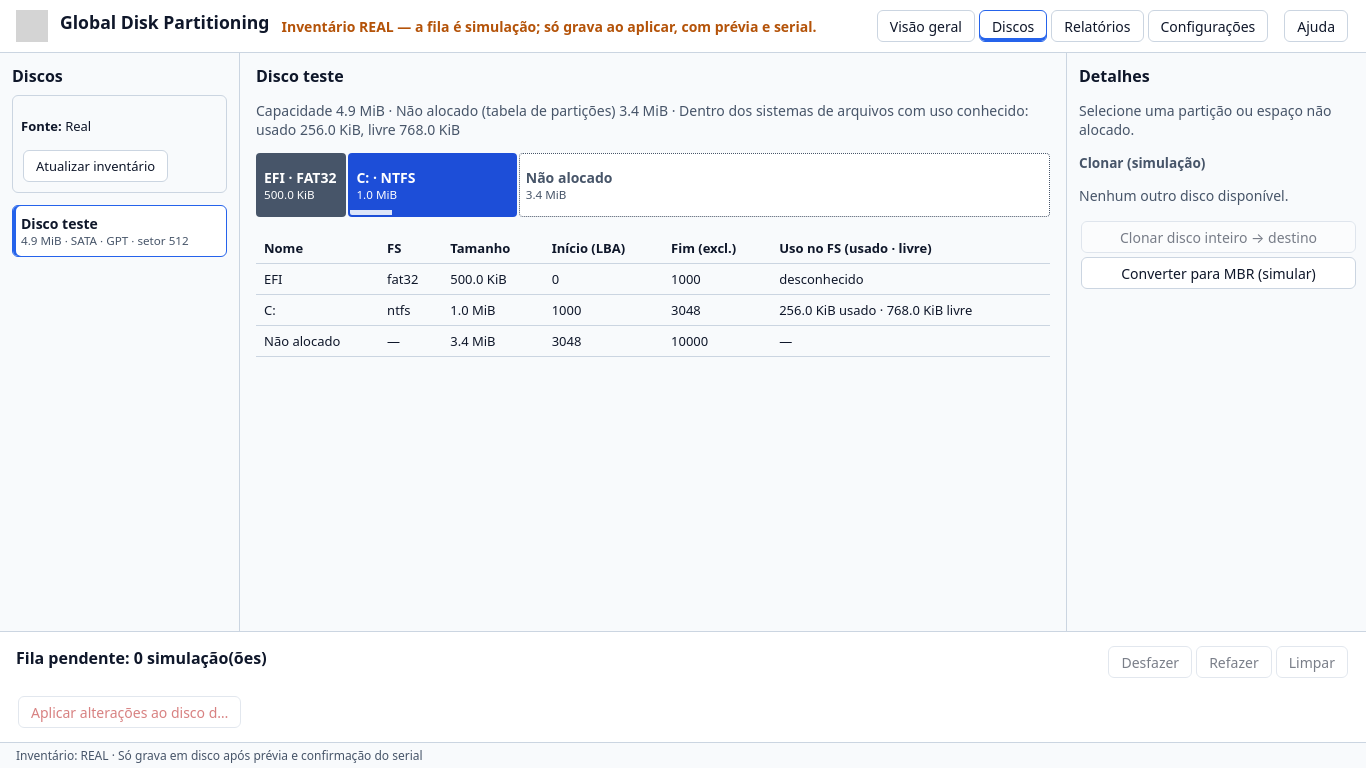
Test case: Ajuda → Sobre exibe autoria e licença
Click the button "Ajuda" at (1316, 26), box [1284,10,1348,42]
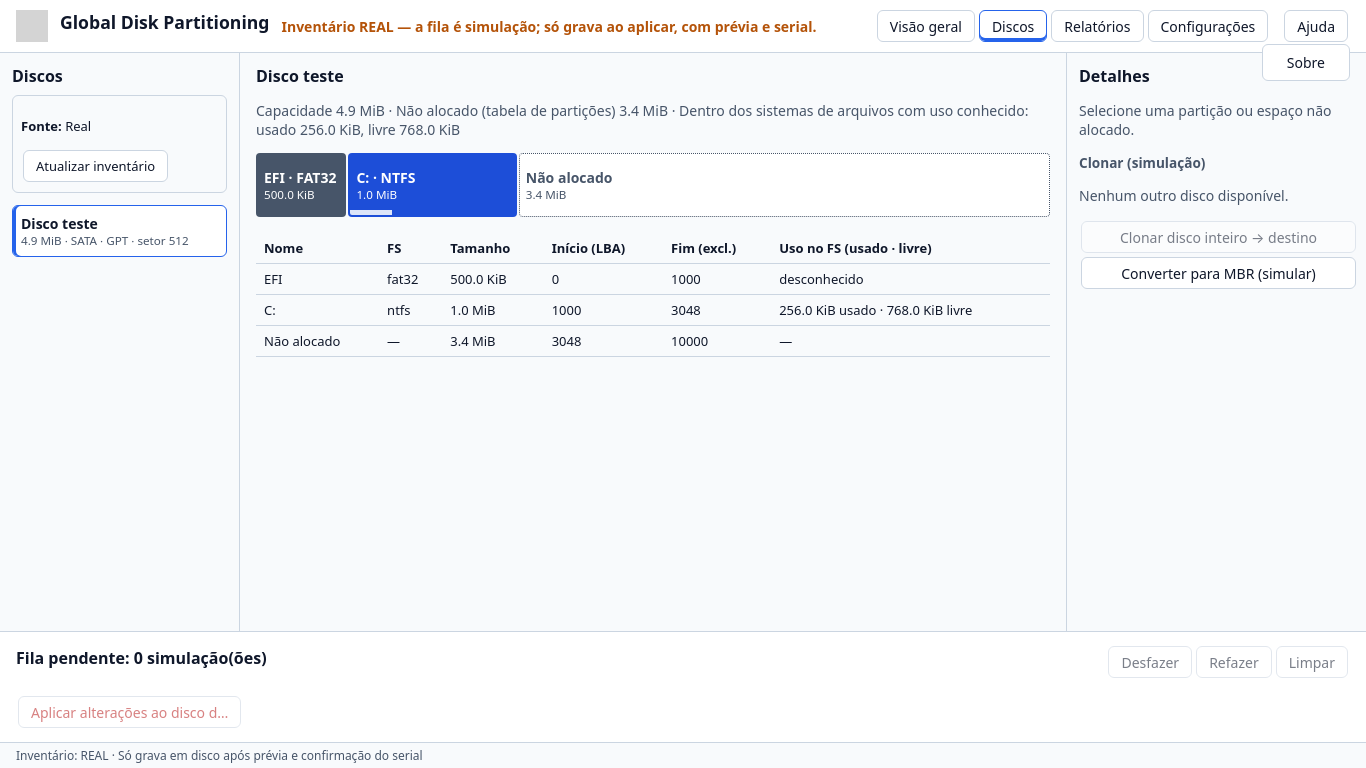
Click the menu item "Sobre" at (1306, 62), box [1263,45,1349,80]
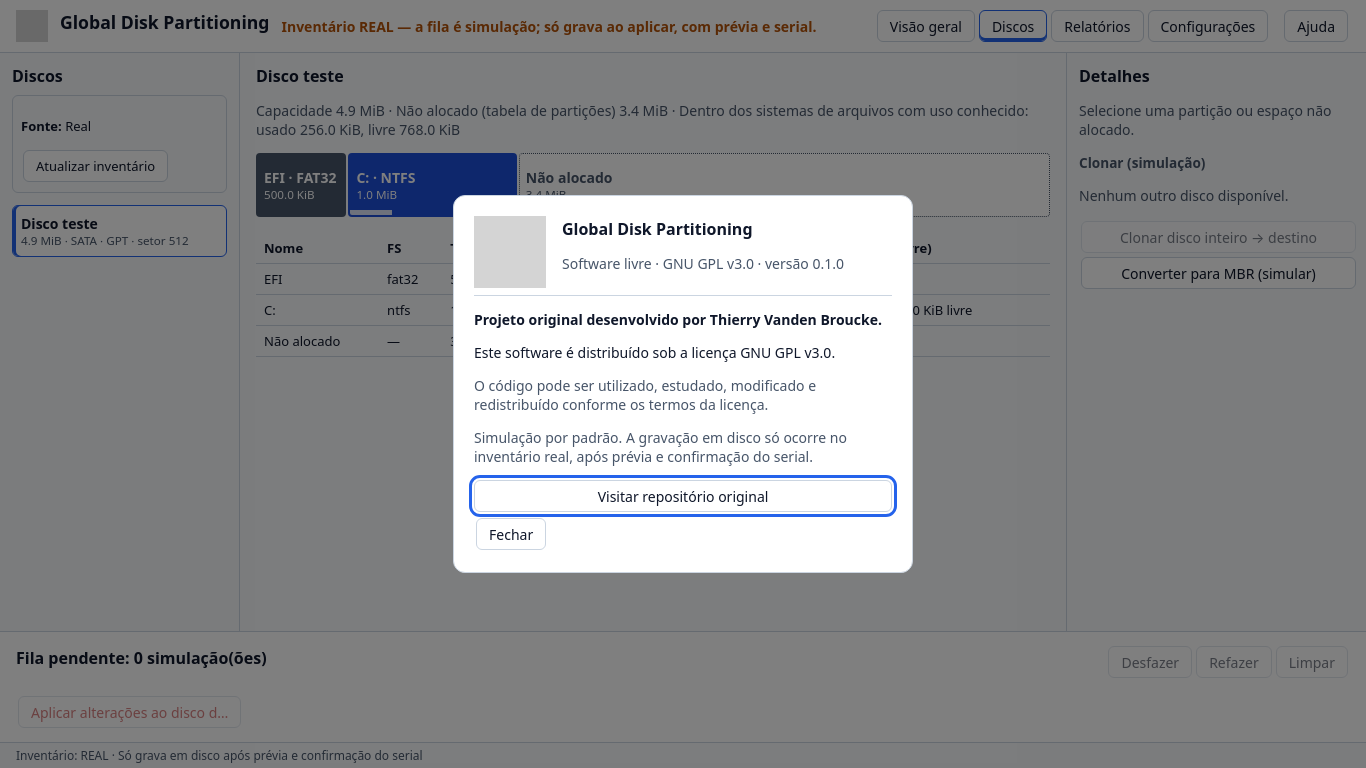
Check: the text "Projeto original desenvolvido por Thierry Vanden Broucke." is shown, box [474,310,882,329]
Check: the text "Este software é distribuído sob a licença GNU GPL v3.0." is shown, box [474,343,892,362]
